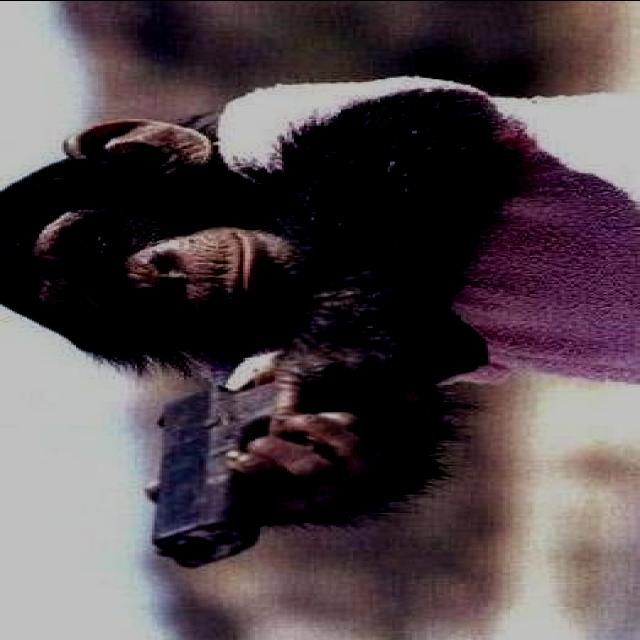handgun: (148, 378, 280, 570)
